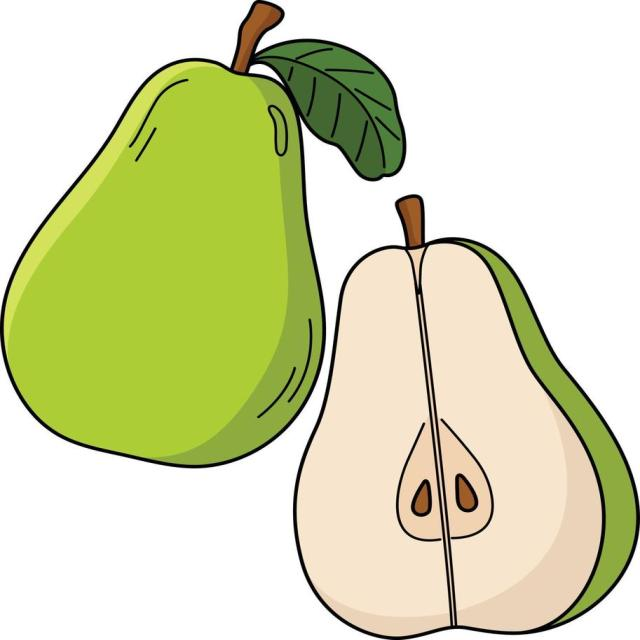pera: (283, 189, 638, 639), (9, 8, 344, 471)
